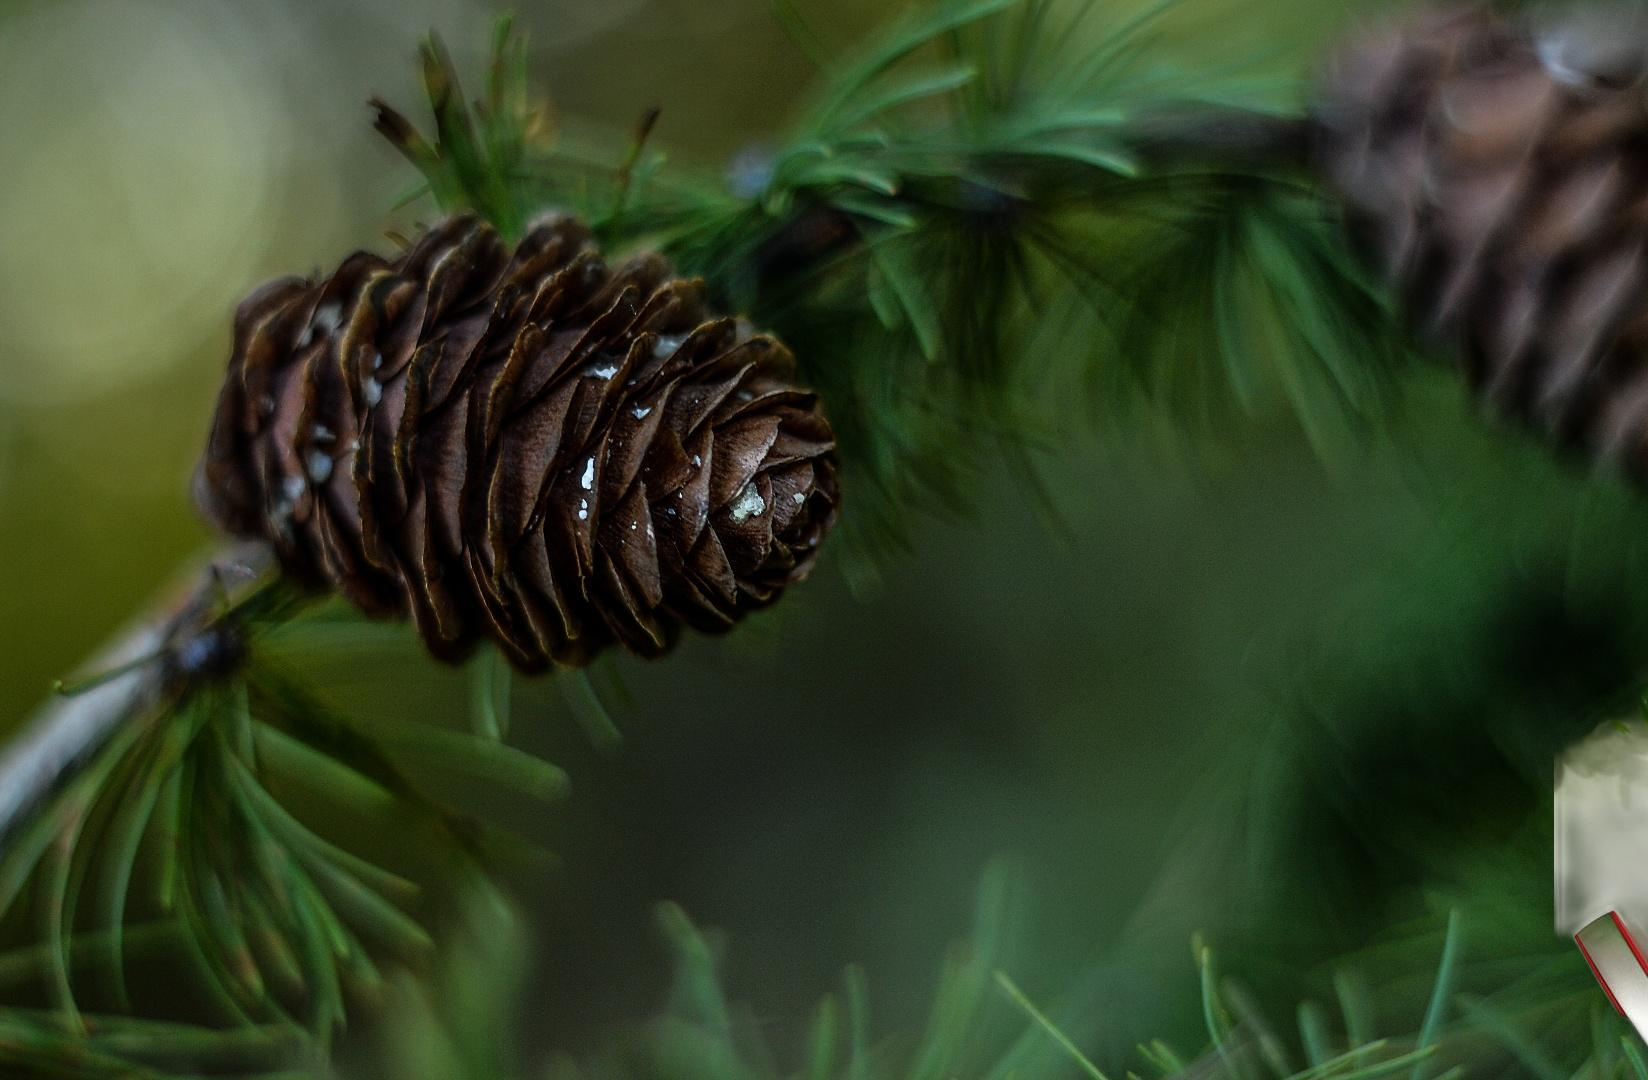penholder: (1554, 655, 1648, 1080)
